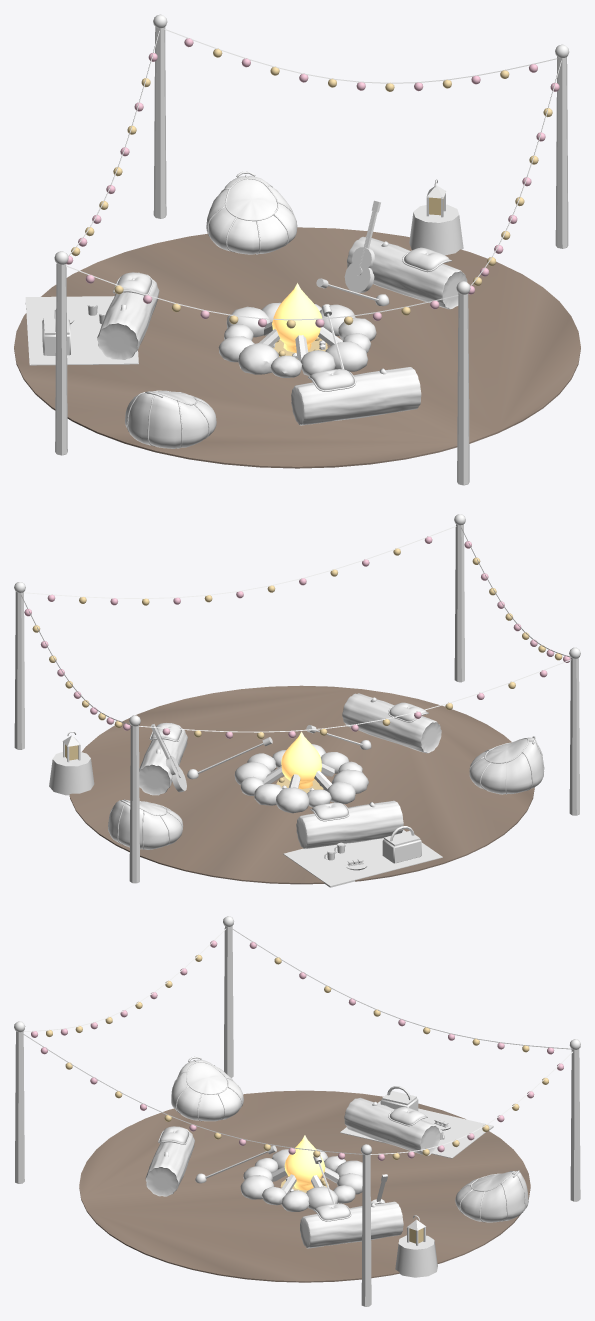
File: zon_lake_chill.glb
3 views of the same model, one above another, from view 1: azimuth 30°, elevation 25°; view 2: azimuth 150°, elevation 25°; view 3: azimuth 270°, elevation 25° (orthographic). The views are drawn at different scales.
Parts seen in each view (by area): view 1: SM_zon_lake_chill_paths_stone_vc_xm1_zm1, SM_zon_lake_chill_kit_lake_xm1_zm1, SM_zon_lake_chill_glow_vc_xm1_zm1, INST_prp_lake_firepit_flame__0; view 2: SM_zon_lake_chill_paths_stone_vc_xm1_zm1, SM_zon_lake_chill_kit_lake_xm1_zm1, SM_zon_lake_chill_glow_vc_xm1_zm1, INST_prp_lake_firepit_flame__0; view 3: SM_zon_lake_chill_paths_stone_vc_xm1_zm1, SM_zon_lake_chill_kit_lake_xm1_zm1, SM_zon_lake_chill_glow_vc_xm1_zm1, INST_prp_lake_firepit_flame__0.
Part boxes in pixels (x1=…): SM_zon_lake_chill_paths_stone_vc_xm1_zm1: x1=14, y1=227, x2=580, y2=468; SM_zon_lake_chill_kit_lake_xm1_zm1: x1=25, y1=14, x2=569, y2=485; SM_zon_lake_chill_glow_vc_xm1_zm1: x1=66, y1=38, x2=559, y2=358; INST_prp_lake_firepit_flame__0: x1=272, y1=283, x2=321, y2=352; SM_zon_lake_chill_paths_stone_vc_xm1_zm1: x1=69, y1=685, x2=534, y2=884; SM_zon_lake_chill_kit_lake_xm1_zm1: x1=14, y1=514, x2=580, y2=887; SM_zon_lake_chill_glow_vc_xm1_zm1: x1=24, y1=536, x2=570, y2=793; INST_prp_lake_firepit_flame__0: x1=281, y1=731, x2=321, y2=788; SM_zon_lake_chill_paths_stone_vc_xm1_zm1: x1=79, y1=1090, x2=530, y2=1282; SM_zon_lake_chill_kit_lake_xm1_zm1: x1=14, y1=916, x2=580, y2=1306; SM_zon_lake_chill_glow_vc_xm1_zm1: x1=31, y1=940, x2=563, y2=1243; INST_prp_lake_firepit_flame__0: x1=284, y1=1135, x2=325, y2=1190.
Size of the model in its own units: 9.5 by 3.15 by 9.77.
